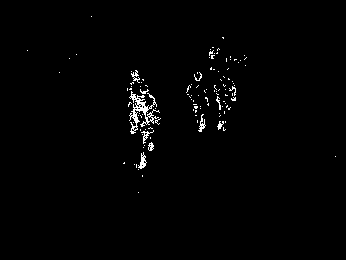person: (128, 85, 161, 171), (212, 68, 240, 135), (186, 69, 212, 133)
